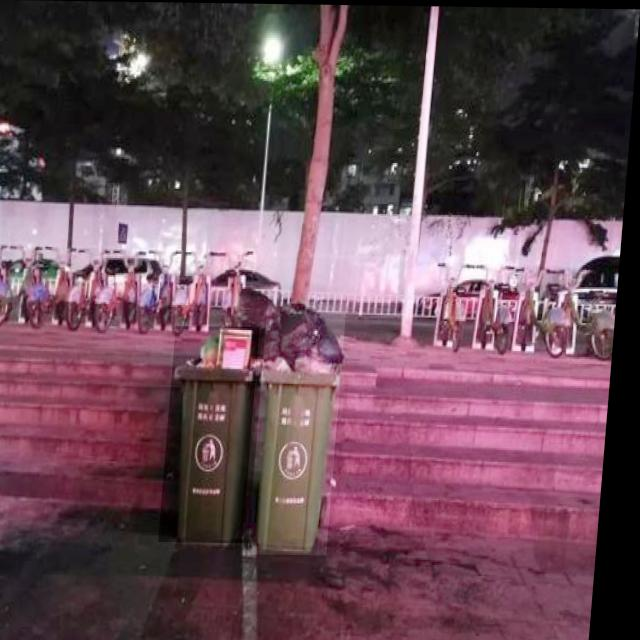overflow: (257, 301, 352, 554), (168, 325, 265, 542)
